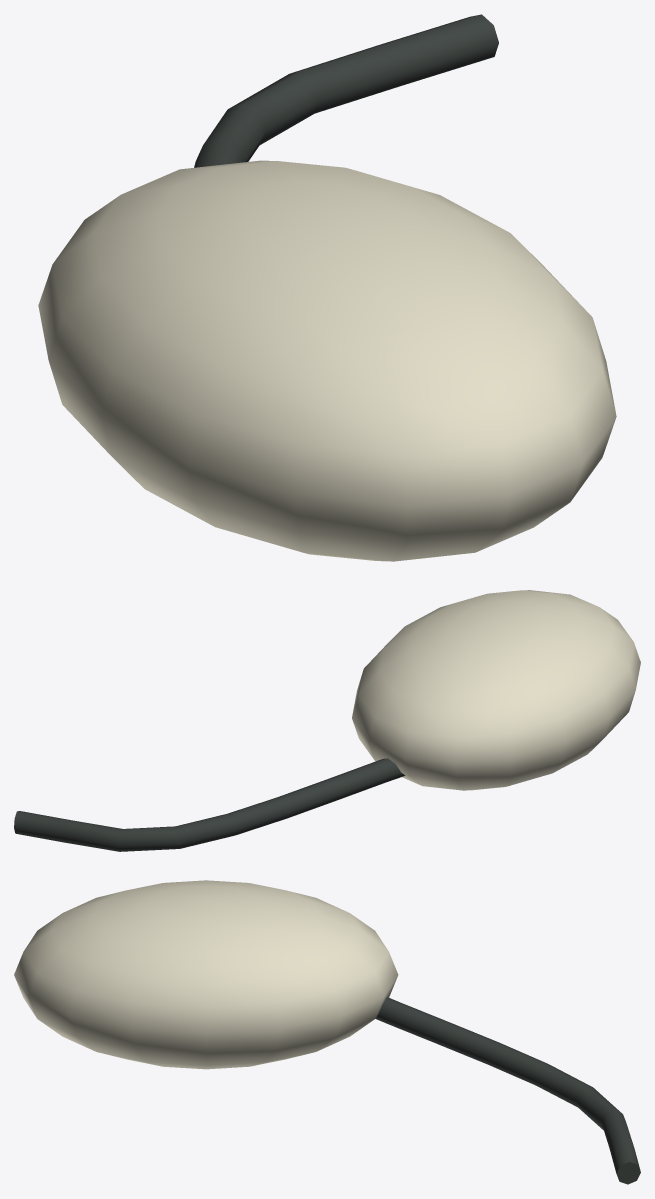
Rendered from off-grid-power-and-controls-float-switch-5a815d4c__3027.glb.
3 views of the same model, one above another, from view 1: azimuth 30°, elevation 25°; view 2: azimuth 150°, elevation 25°; view 3: azimuth 270°, elevation 25° (orthographic). The views are drawn at different scales.
Parts seen in each view (by area): view 1: float-switch; view 2: float-switch; view 3: float-switch.
Boxes of the visible parts, x1,y1,x2,y2 form: float-switch: [38, 14, 616, 561]; float-switch: [14, 590, 640, 851]; float-switch: [14, 880, 640, 1184].
Bounding box in the file's own units: 0.2265 × 0.078 × 0.2968.
